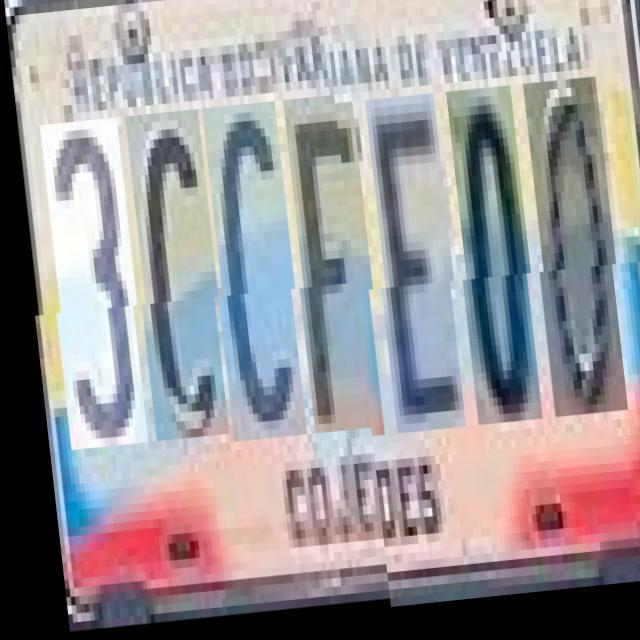3: (38, 128, 142, 459)
C: (200, 115, 302, 454), (122, 121, 224, 452)
E: (362, 102, 459, 441)
F: (281, 109, 378, 448)
O: (520, 89, 622, 428), (443, 96, 536, 434)
